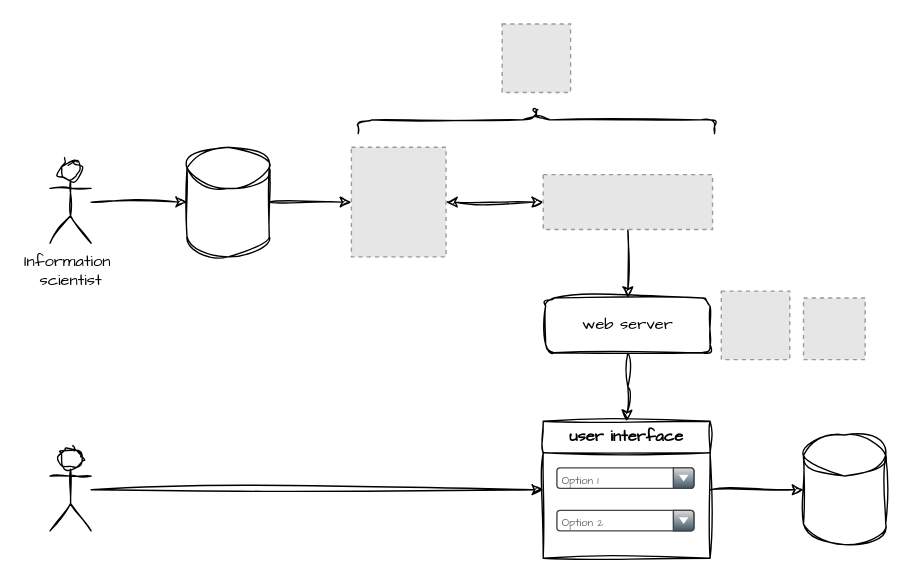
This 910x584 diagram has some shape labels left out. Grey dashed boxes stand in for pictures. Each missing label, with the centre of its shape:
"BD NoSQL" goes at point 844,489.
"OWL" goes at point 227,201.
"User" goes at point 70,489.
